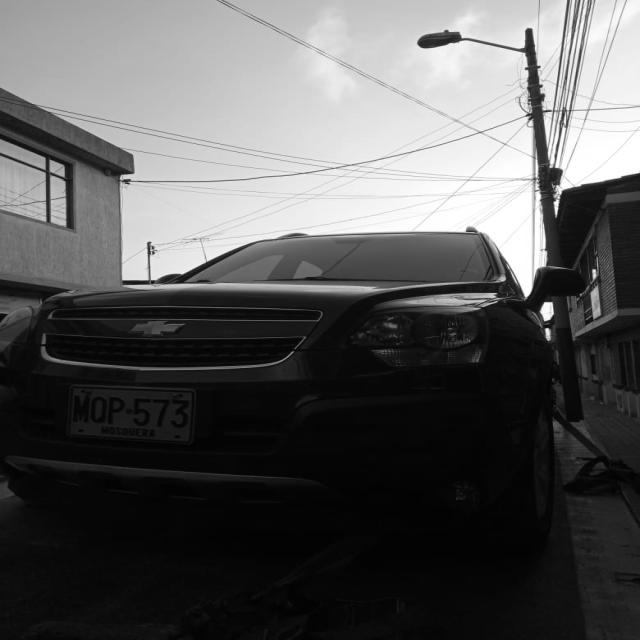plate: (63, 382, 193, 444)
